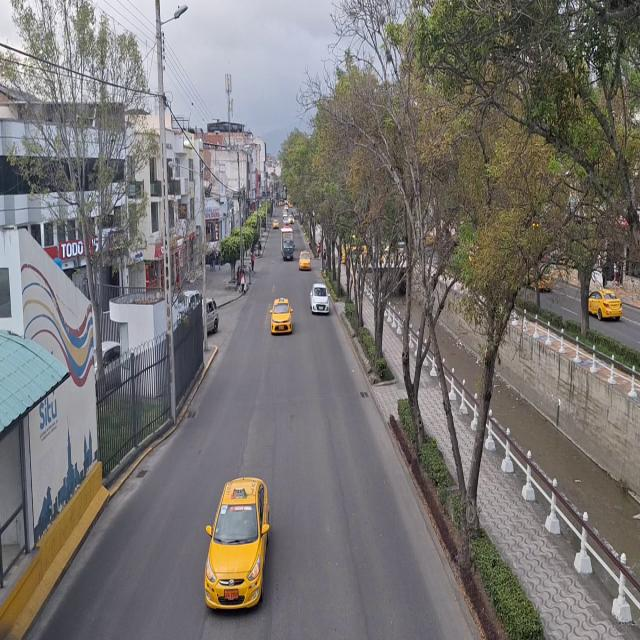SED: (206, 482, 268, 612), (271, 300, 293, 333), (311, 284, 329, 313)
